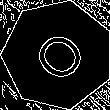O_SE: (24, 22, 92, 88)
